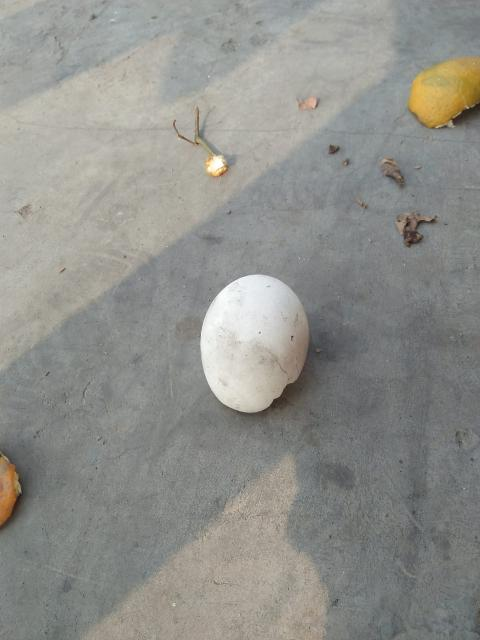Roto: (198, 272, 312, 416)
